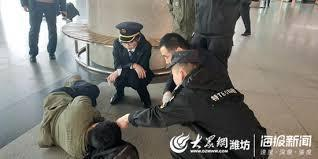Fall-Detected: (28, 70, 130, 155)
